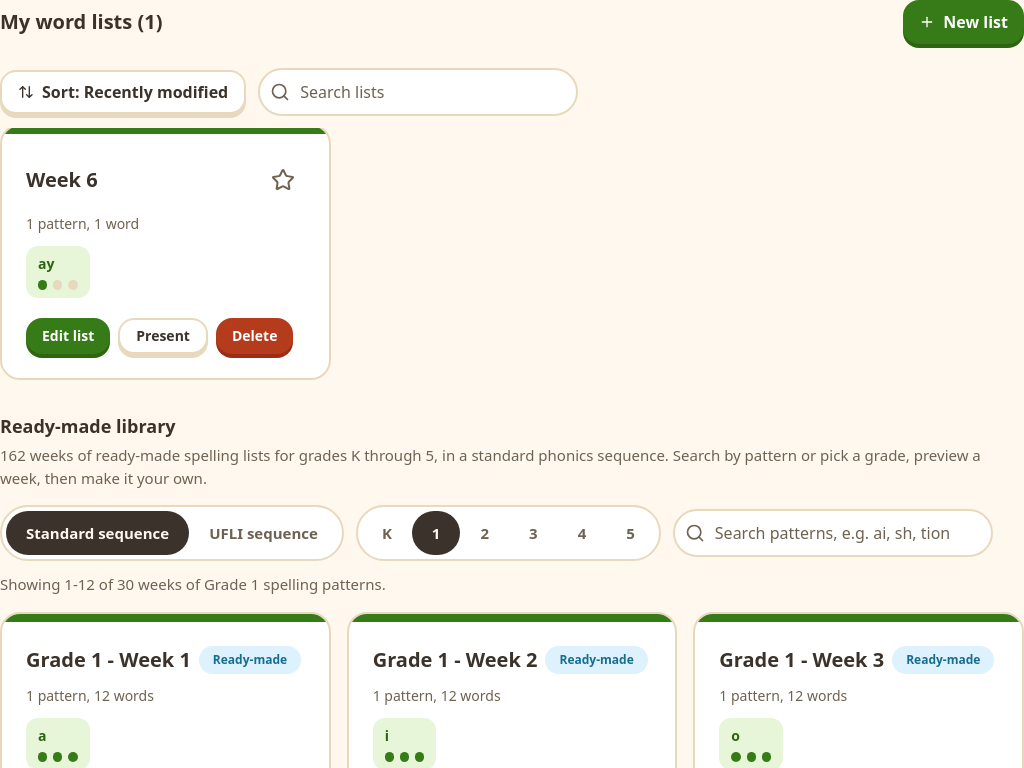
Test case: PatternListsManager › uses singular counts in the list delete dialog
The image size is (1024, 768).
expect the heading "My word lists (1)" is shown: met, box [0,8,162,36]
Click the button "Delete" at (255, 336), box [216,318,293,354]
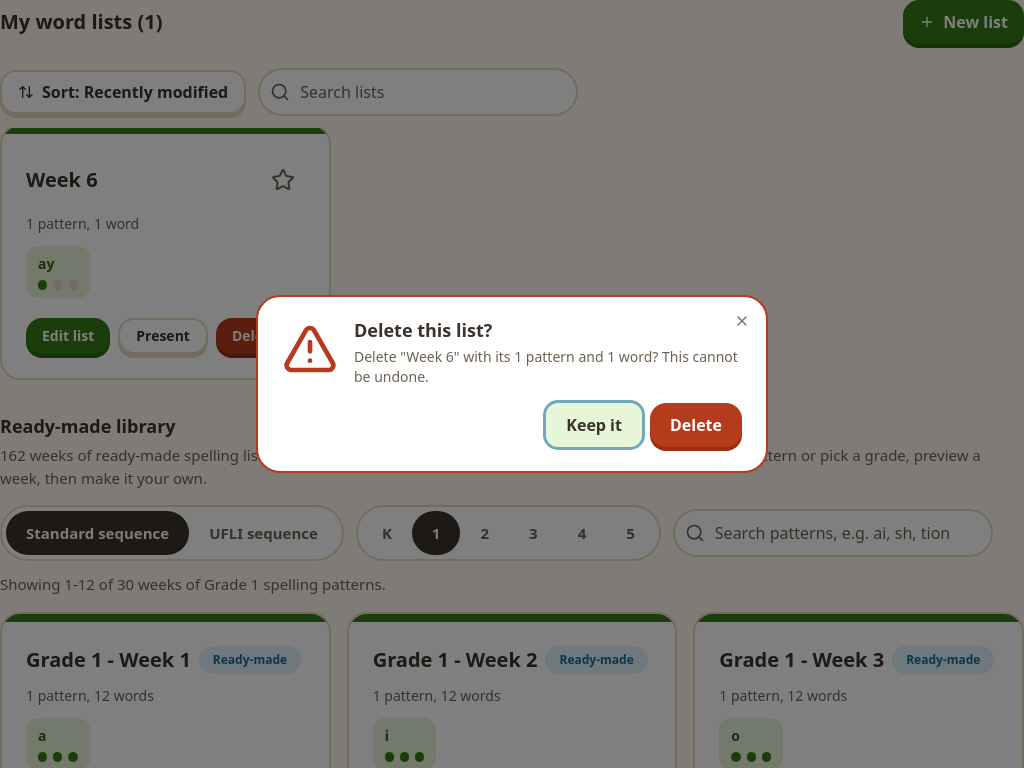
expect the text "Delete \"Week 6\" with its 1 pattern and 1 word? This cannot be undone." is shown: met, box [354,347,742,387]
